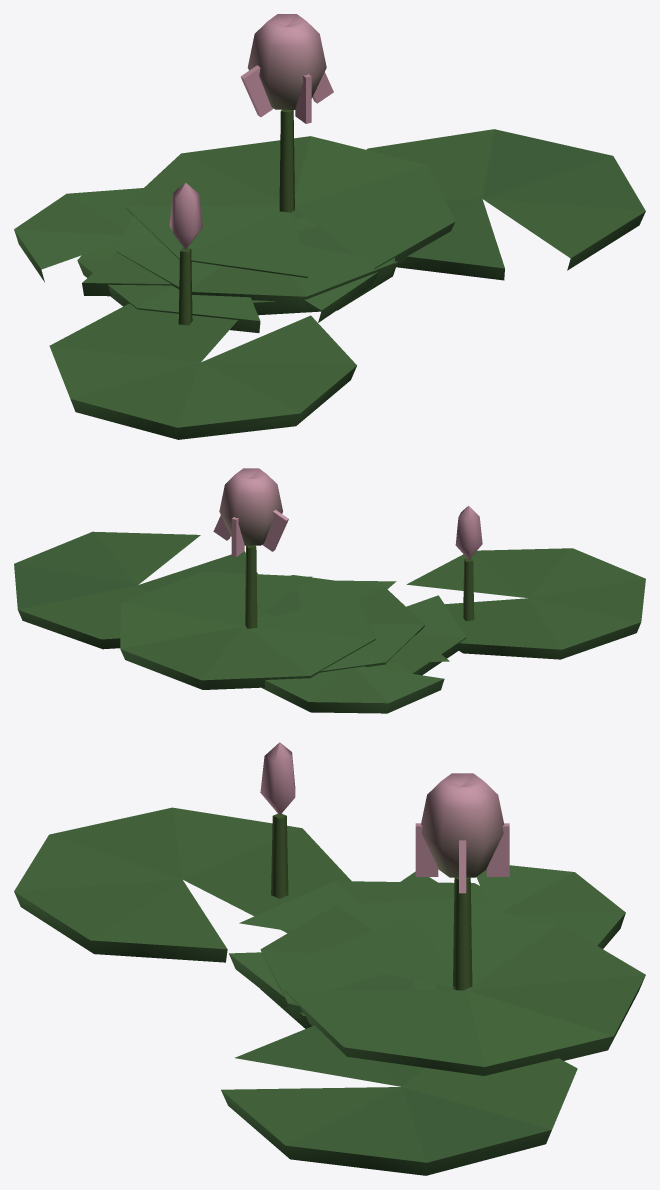
File: lily-pad-cluster.glb
3 views of the same model, one above another, from view 1: azimuth 30°, elevation 25°; view 2: azimuth 150°, elevation 25°; view 3: azimuth 270°, elevation 25° (orthographic). The views are drawn at different scales.
Parts seen in each view (by area): view 1: lily_pad_cluster; view 2: lily_pad_cluster; view 3: lily_pad_cluster.
Part boxes in pixels (x1=…): lily_pad_cluster: x1=14, y1=14, x2=645, y2=439; lily_pad_cluster: x1=14, y1=468, x2=645, y2=713; lily_pad_cluster: x1=14, y1=742, x2=645, y2=1175.
Bounding box in the file's own units: 1.64 × 0.51 × 1.24.
